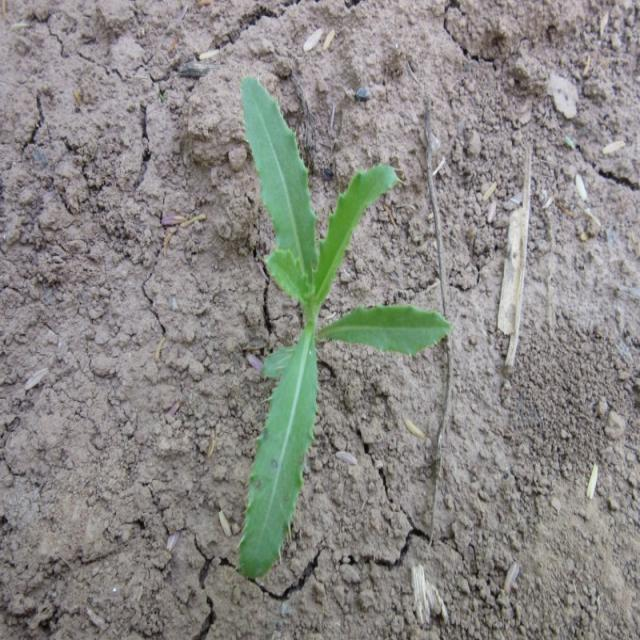field_thistle: (206, 69, 445, 556)
